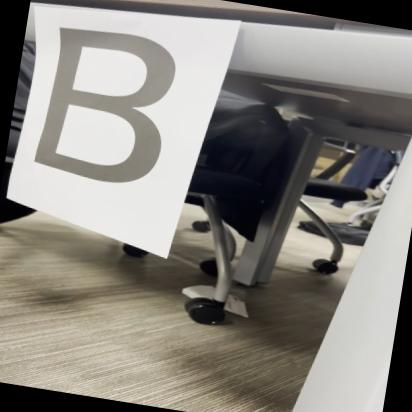seat: (21, 9, 200, 203)
